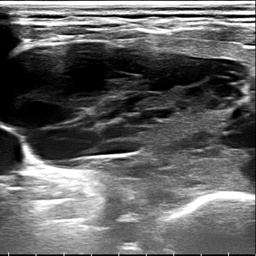mass: (7, 41, 244, 158)
